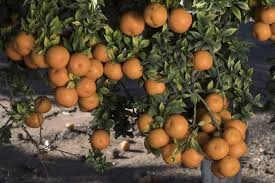orange: (68, 50, 89, 76), (191, 49, 215, 71), (165, 116, 188, 138), (45, 47, 69, 68)
